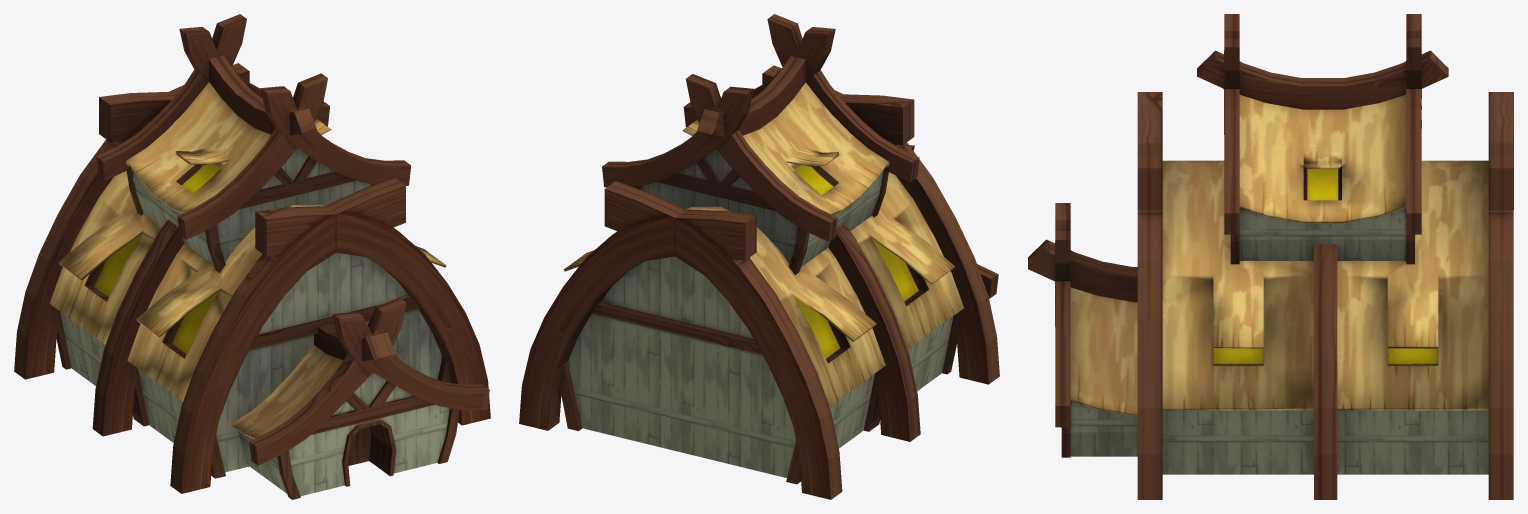
File: VillageHouse1.fbx
3 views of the same model, side by side, from view 1: azimuth 30°, elevation 25°; view 2: azimuth 150°, elevation 25°; view 3: azimuth 270°, elevation 25° (orthographic). The views are drawn at different scales.
Parts seen in each view (by area): view 1: BigHouse1; view 2: BigHouse1; view 3: BigHouse1.
Part boxes in pixels (x1,y1,x2,y2): BigHouse1: (14, 14, 490, 499); BigHouse1: (519, 14, 999, 499); BigHouse1: (1028, 14, 1513, 499).
Bounding box in the file's own units: 313 × 330 × 378.
Materials: 1 (1 with a texture image).
